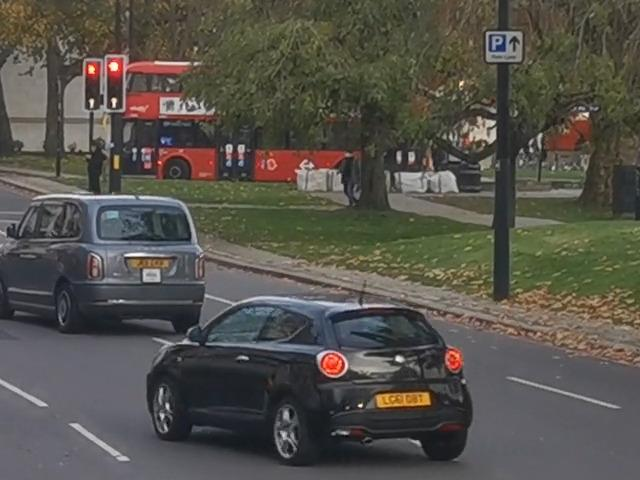car: (144, 288, 472, 464), (0, 195, 203, 342)
